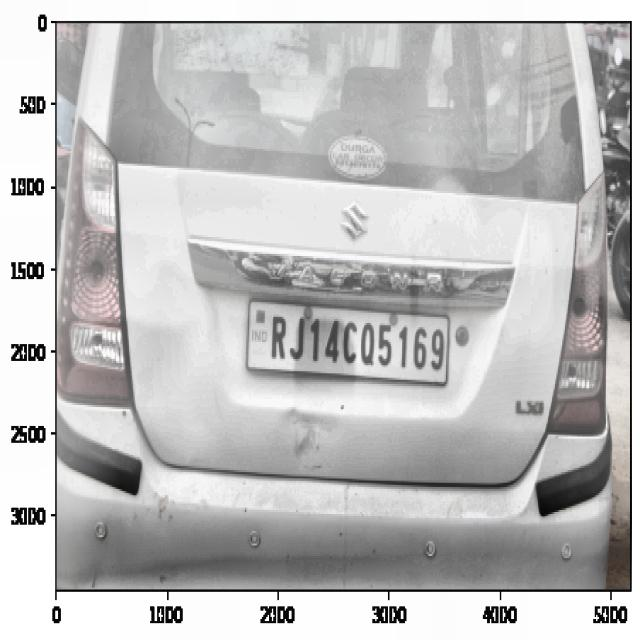license_plate: (266, 304, 449, 382)
